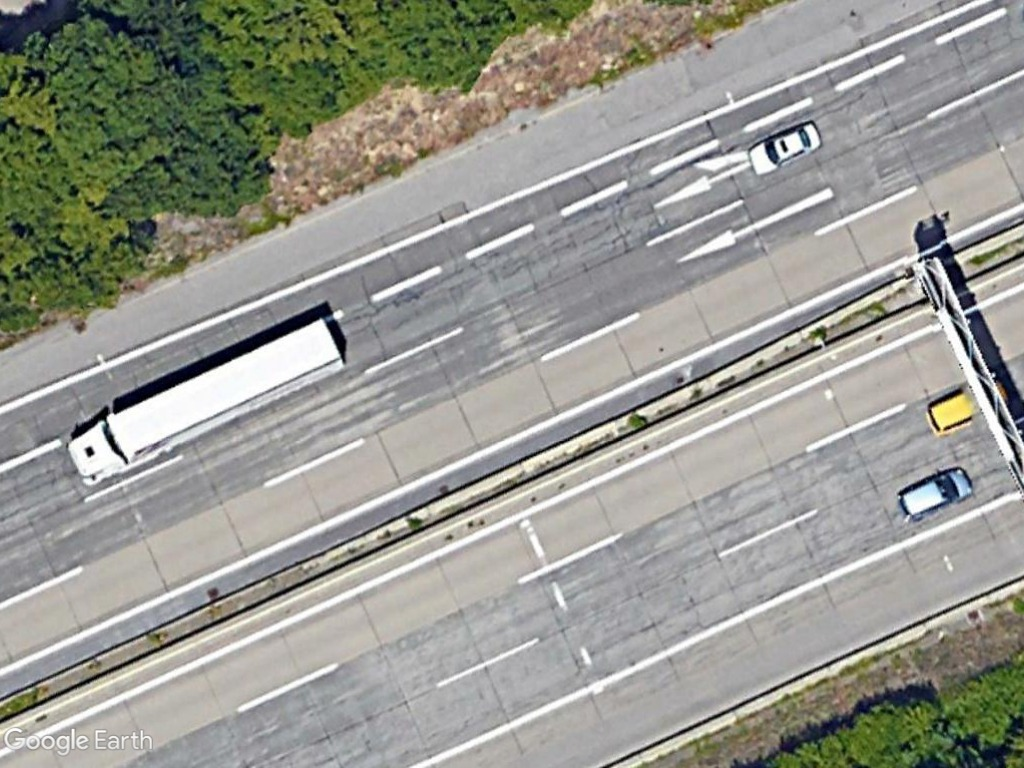car: (893, 462, 978, 530), (743, 116, 828, 182)
longvehicle: (62, 306, 349, 493)
